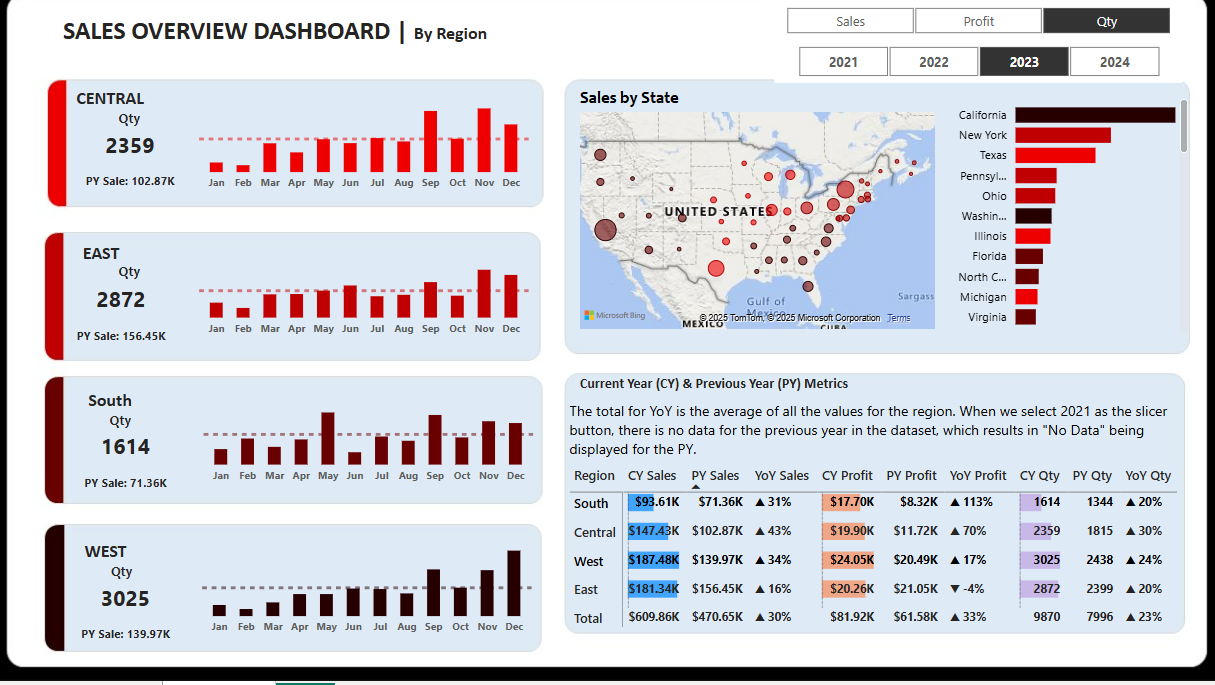

What the dashboard file says about the page in this screenshot:
{"tool":"powerbi","page":{"name":"Page 1","canvas":[1280,720],"ordinal":0},"visuals":[{"type":"slicer","fields":{"Values":["Select Metric.Select Metric"]},"box":[804.3,12.5,448.2,40.6],"z":0},{"type":"card","fields":{"Values":["Sales Data.Total Sales"]},"box":[68.7,140.6,156.2,45.3],"z":1000},{"type":"textbox","box":[79.7,96.8,90.6,43.7],"z":2000},{"type":"slicer","fields":{"Values":["Calendar Table.Year"]},"box":[817,52.5,424.4,44.5],"z":3000},{"type":"card","fields":{"Values":["Sales Data.Dynamic Title"]},"box":[79.7,118.7,132.8,35.9],"z":4000},{"type":"card","fields":{"Values":["Sales Data.PY KPI Sales"]},"box":[79.7,185.9,132.8,32.8],"z":5000},{"type":"clusteredColumnChart","fields":{"Y":["Sales Data.Total Sales"],"Category":["Calendar Table.Month"]},"box":[212.4,106.2,354.5,112.5],"z":6000},{"type":"textbox","box":[32.8,21.9,534.1,48.4],"z":7000},{"type":"card","fields":{"Values":["Sales Data.Total Sales"]},"box":[60,301.5,156.2,45.3],"z":8000},{"type":"textbox","box":[70.9,257.8,90.6,43.7],"z":9000},{"type":"card","fields":{"Values":["Sales Data.PY KPI Sales"]},"box":[70.9,346.8,132.8,32.8],"z":10000},{"type":"clusteredColumnChart","fields":{"Y":["Sales Data.Total Sales"],"Category":["Calendar Table.Month"]},"box":[212.4,257.7,354.5,112.5],"z":11000},{"type":"card","fields":{"Values":["Sales Data.Total Sales"]},"box":[64.8,455.2,156.2,45.3],"z":12000},{"type":"textbox","box":[79.7,410.8,90.6,43.7],"z":13000},{"type":"card","fields":{"Values":["Sales Data.PY KPI Sales"]},"box":[75.7,500.5,132.8,32.8],"z":14000},{"type":"clusteredColumnChart","fields":{"Y":["Sales Data.Total Sales"],"Category":["Calendar Table.Month"]},"box":[217.2,411.4,354.5,112.5],"z":15000},{"type":"card","fields":{"Values":["Sales Data.Total Sales"]},"box":[63.7,612.5,156.2,45.3],"z":16000},{"type":"textbox","box":[74.7,568.7,90.6,43.7],"z":17000},{"type":"card","fields":{"Values":["Sales Data.PY KPI Sales"]},"box":[74.7,657.7,132.8,32.8],"z":18000},{"type":"clusteredColumnChart","fields":{"Y":["Sales Data.Total Sales"],"Category":["Calendar Table.Month"]},"box":[216.2,568.6,354.5,112.5],"z":19000},{"type":"card","fields":{"Values":["Sales Data.Dynamic Title"]},"box":[79.7,278,132.8,35.9],"z":20000},{"type":"card","fields":{"Values":["Sales Data.Dynamic Title"]},"box":[70.3,432.6,132.8,35.9],"z":21000},{"type":"card","fields":{"Values":["Sales Data.Dynamic Title"]},"box":[71.8,589.6,132.3,35.9],"z":22000},{"type":"map","title":"Sales by State","fields":{"Size":["Sales Data.Total Sales"],"Category":["Sales Data.State/Province"],"Series":["Sales Data.Region"]},"box":[609.1,101.5,379.5,257.7],"z":23000},{"type":"barChart","fields":{"Y":["Sales Data.Total Sales"],"Category":["Sales Data.State/Province"],"Series":["Sales Data.Region"]},"box":[988.6,101.5,263.9,262.4],"z":24000},{"type":"pivotTable","fields":{"Rows":["Sales Data.Region"],"Values":["Sales Data.CY Sales","Sales Data.PY Sales","Sales Data.YoY Sales","Sales Data.CY Profit","Sales Data.PY Profit","Sales Data.YoY Profit","Sales Data.CY Qty","Sales Data.PY Qty","Sales Data.YoY Qty"]},"box":[598.2,490.4,643.5,190.5],"z":25000},{"type":"textbox","box":[609.1,395.1,299.9,37.5],"z":25001},{"type":"textbox","box":[598.2,423.3,654.4,76.5],"z":25002}]}

Visuals, with their boxes in screenshot pixels (x1, y1, x2, y2), scaled from the page's 1280x720 canvas onto the 1215x685 screenshot:
slicer - Select Metric.Select Metric: [763, 12, 1189, 51]
card - Sales Data.Total Sales: [65, 134, 213, 177]
textbox: [76, 92, 162, 134]
slicer - Calendar Table.Year: [776, 50, 1178, 92]
card - Sales Data.Dynamic Title: [76, 113, 202, 147]
card - Sales Data.PY KPI Sales: [76, 177, 202, 208]
clusteredColumnChart - Sales Data.Total Sales x Calendar Table.Month: [202, 101, 538, 208]
textbox: [31, 21, 538, 67]
card - Sales Data.Total Sales: [57, 287, 205, 330]
textbox: [67, 245, 153, 287]
card - Sales Data.PY KPI Sales: [67, 330, 193, 361]
clusteredColumnChart - Sales Data.Total Sales x Calendar Table.Month: [202, 245, 538, 352]
card - Sales Data.Total Sales: [62, 433, 210, 476]
textbox: [76, 391, 162, 432]
card - Sales Data.PY KPI Sales: [72, 476, 198, 507]
clusteredColumnChart - Sales Data.Total Sales x Calendar Table.Month: [206, 391, 543, 498]
card - Sales Data.Total Sales: [60, 583, 209, 626]
textbox: [71, 541, 157, 583]
card - Sales Data.PY KPI Sales: [71, 626, 197, 657]
clusteredColumnChart - Sales Data.Total Sales x Calendar Table.Month: [205, 541, 542, 648]
card - Sales Data.Dynamic Title: [76, 264, 202, 299]
card - Sales Data.Dynamic Title: [67, 412, 193, 446]
card - Sales Data.Dynamic Title: [68, 561, 194, 595]
"Sales by State" map: [578, 97, 938, 342]
barChart - Sales Data.Total Sales x Sales Data.State/Province: [938, 97, 1189, 346]
pivotTable - Sales Data.Region x Sales Data.CY Sales: [568, 467, 1179, 648]
textbox: [578, 376, 863, 412]
textbox: [568, 403, 1189, 476]
